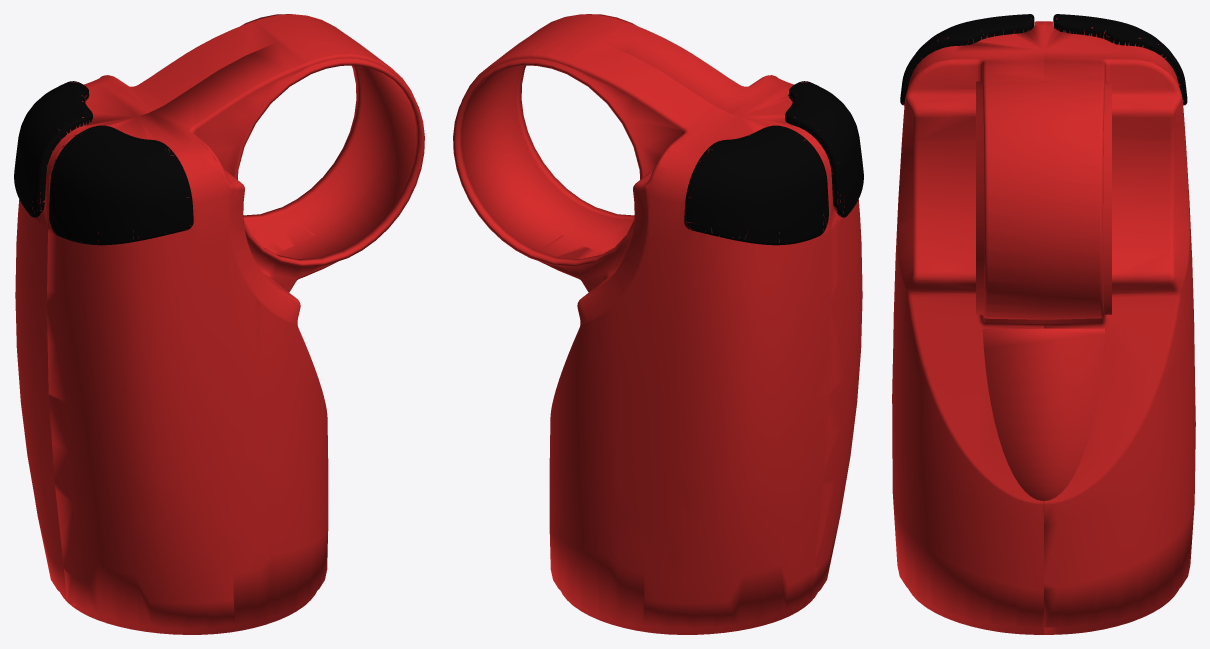
3 renders of one model, left to right at view 1: azimuth 30°, elevation 25°; view 2: azimuth 150°, elevation 25°; view 3: azimuth 270°, elevation 25°, orthographic. The views are drawn at different scales.
Visible parts, largest first — view 1: E0; view 2: E0; view 3: E0.
Part boxes in pixels (bbox=[...]): E0: bbox=[14, 14, 424, 634]; E0: bbox=[453, 14, 863, 634]; E0: bbox=[892, 14, 1195, 634].
Size of the model in its own units: 0.2245 by 0.1586 by 0.3134.
